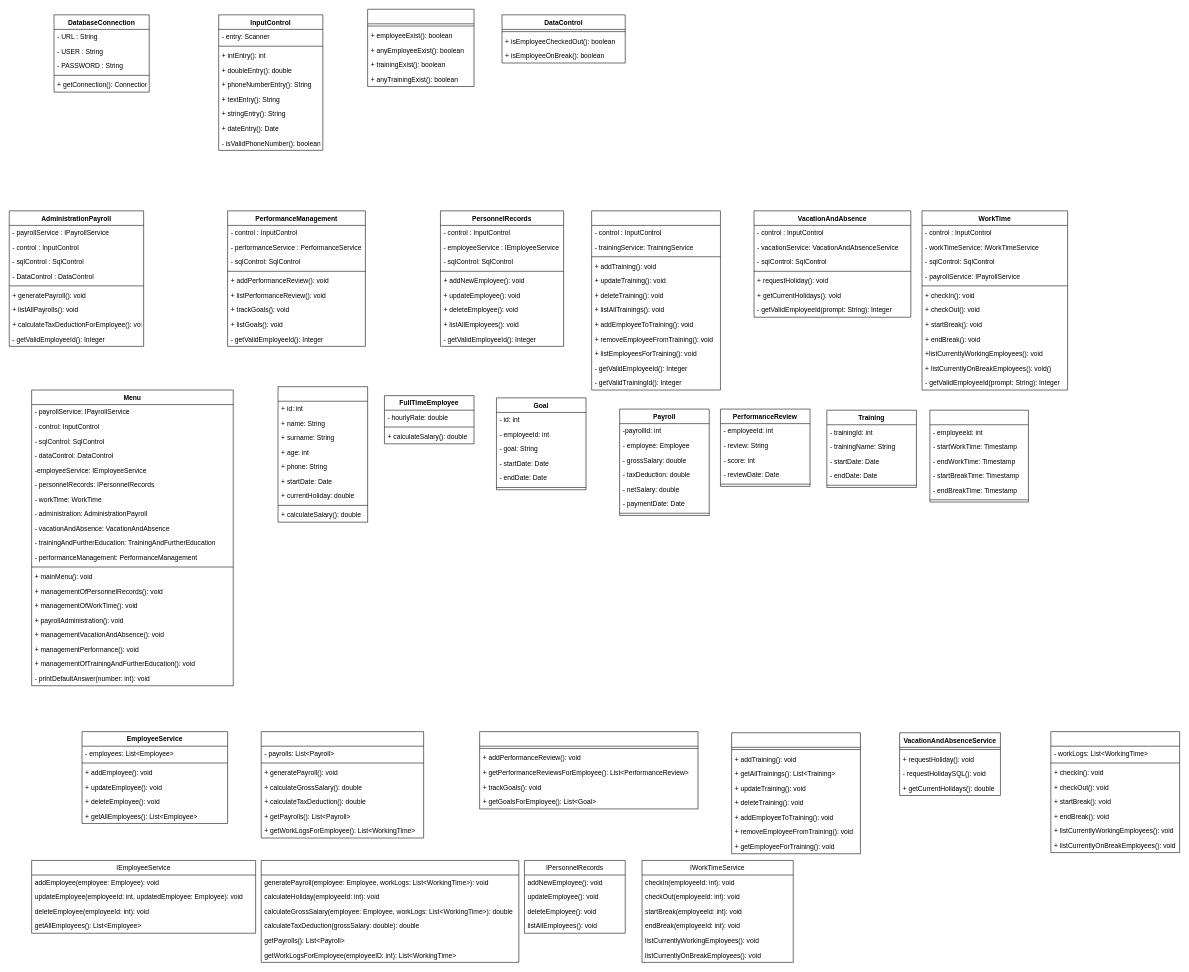
Image size: 1189x972. Some labels were removed from this diagram. The box of each missing label's shape, as (x1, y1, x2, y2) in pixels:
Employee (abstract): (277, 386, 368, 522)
IPayrollService: (261, 860, 519, 962)
PayrollService: (261, 731, 424, 838)
PerformanceService: (479, 731, 698, 809)
SqlControl: (367, 9, 474, 87)
TrainingAndFurtherEducation: (591, 210, 720, 390)
TrainingService: (731, 732, 860, 854)
WorkingTime: (929, 410, 1028, 502)
WorkTimeService: (1050, 731, 1180, 853)
